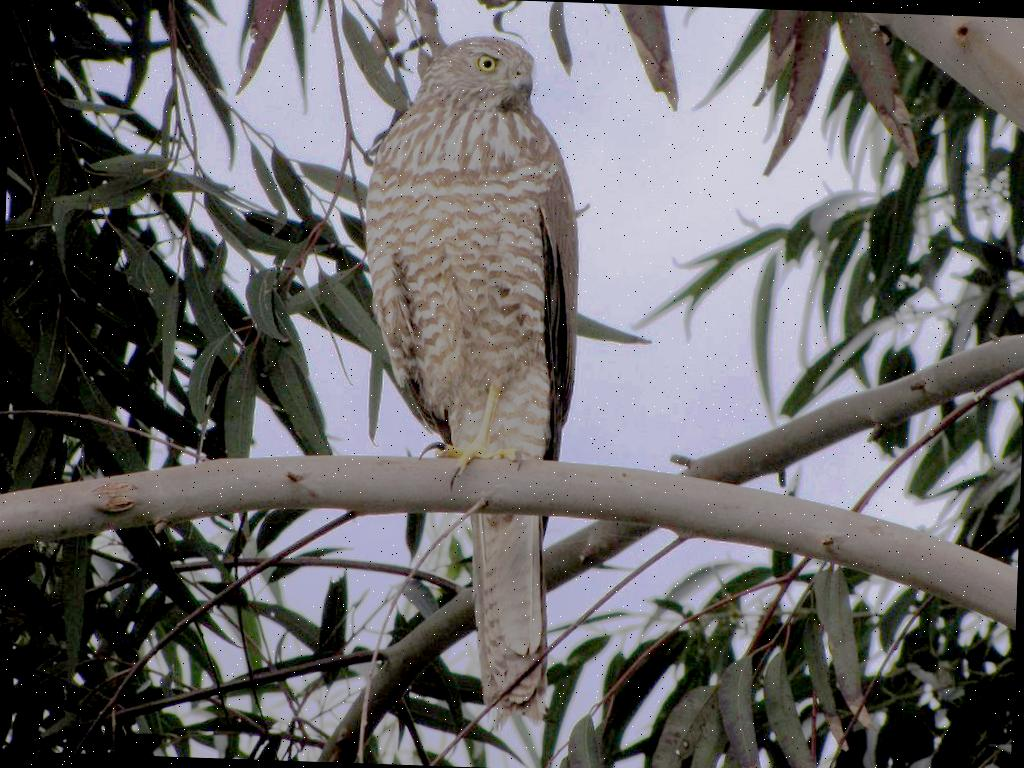Owl: (344, 27, 590, 743)
